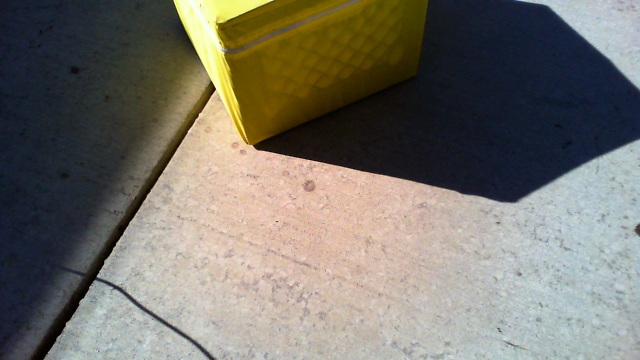cube: (170, 1, 430, 146)
